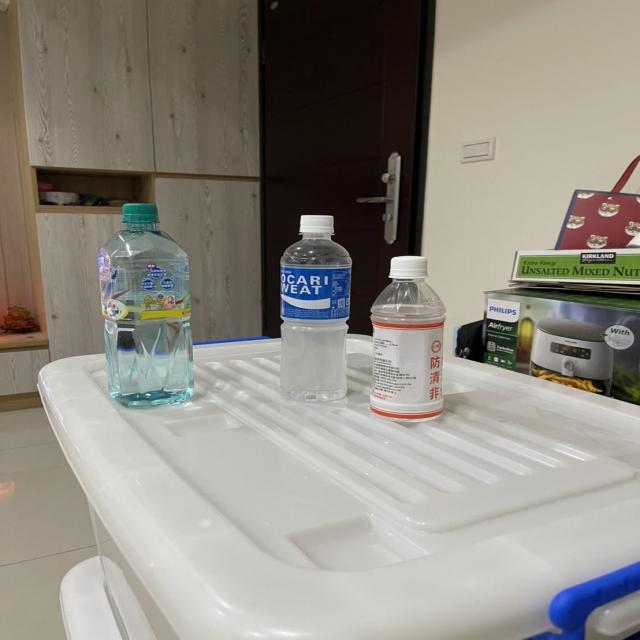bottle: (85, 198, 211, 418), (264, 213, 358, 406), (367, 252, 460, 430)
